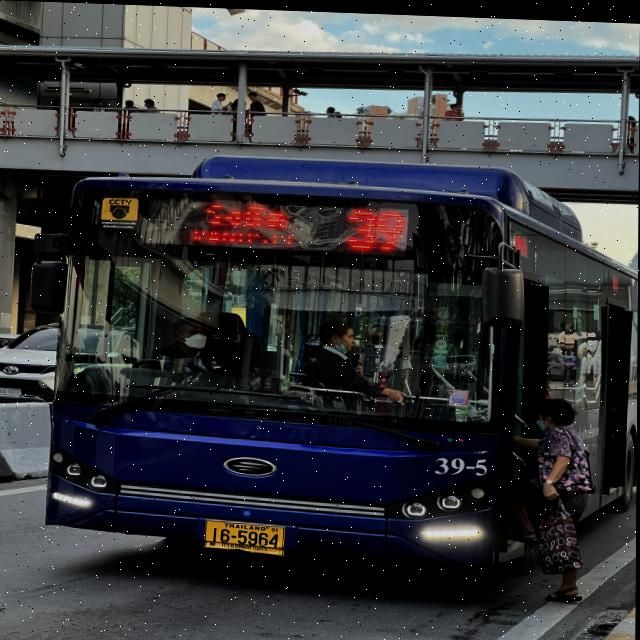Bus-Line-Number: (334, 197, 418, 258)
Destination-Sign-Normal: (185, 195, 309, 250)
TSB-Bus: (44, 149, 639, 572)
